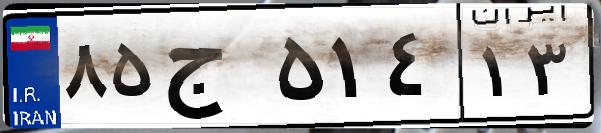1: (330, 28, 385, 110), (475, 38, 525, 113)
3: (525, 38, 570, 115)
4: (385, 28, 445, 110)
5: (270, 28, 330, 110), (110, 28, 158, 98)
8: (57, 26, 110, 100)
ج: (158, 20, 270, 120)
